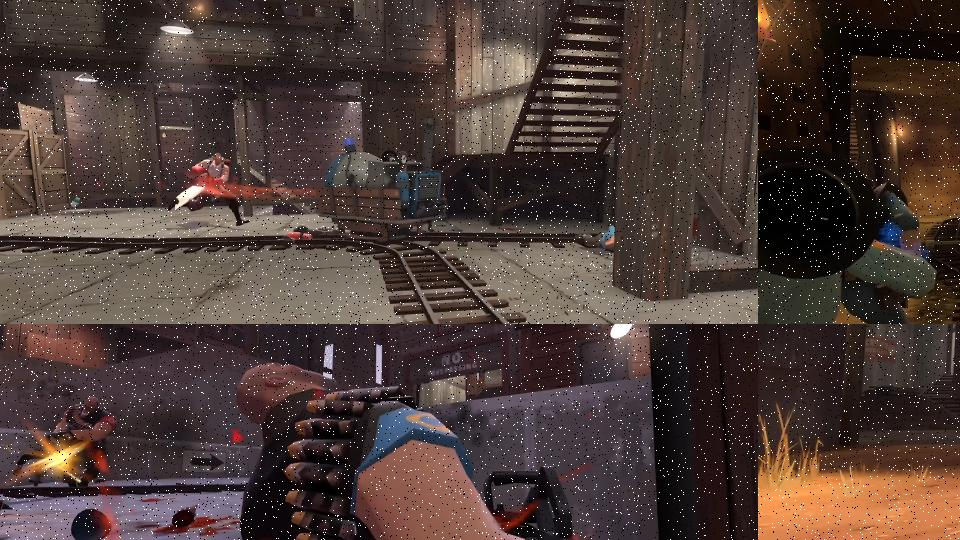Enemy: (233, 357, 609, 540), (758, 151, 935, 324), (15, 394, 118, 488), (166, 151, 250, 228), (280, 227, 351, 244), (579, 222, 617, 252)
